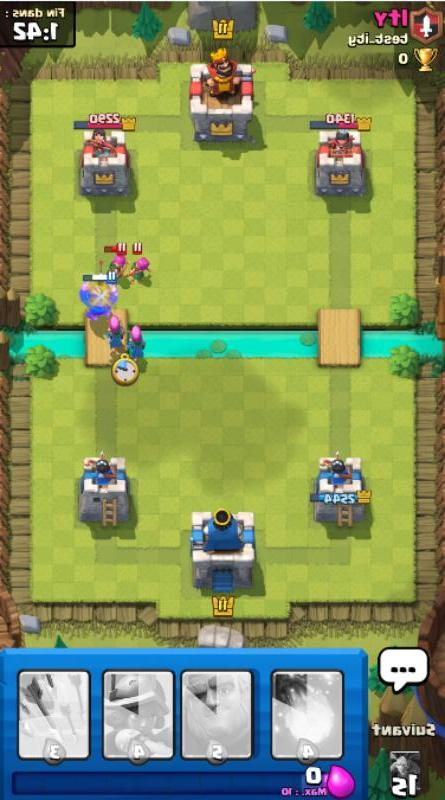archere: (124, 242, 153, 285), (102, 243, 130, 281), (126, 324, 148, 364), (104, 315, 125, 356)
chevalier: (77, 270, 120, 323)
